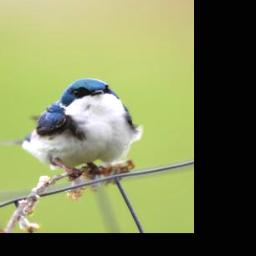Swallow: (0, 77, 145, 181)
